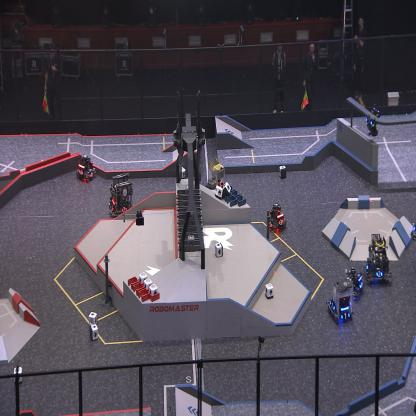car: (364, 232, 393, 284), (325, 278, 355, 323), (108, 172, 134, 218), (205, 160, 226, 196), (344, 266, 364, 300), (75, 153, 96, 181), (268, 203, 286, 234)
